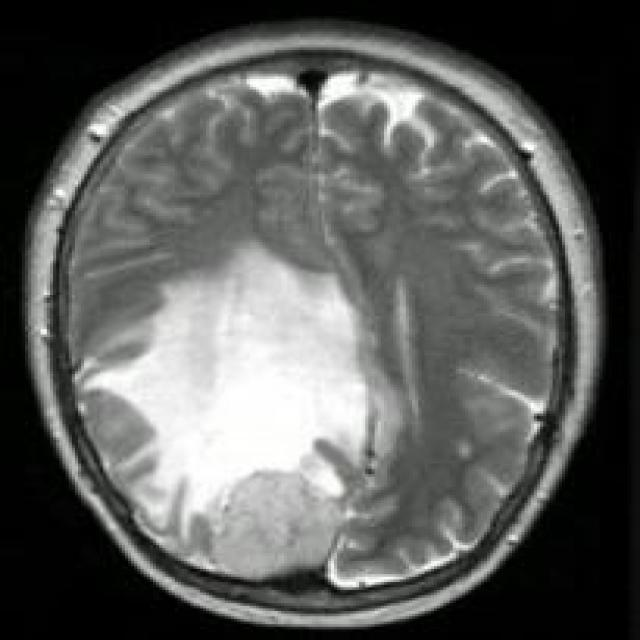Tumor: (85, 250, 365, 542)
